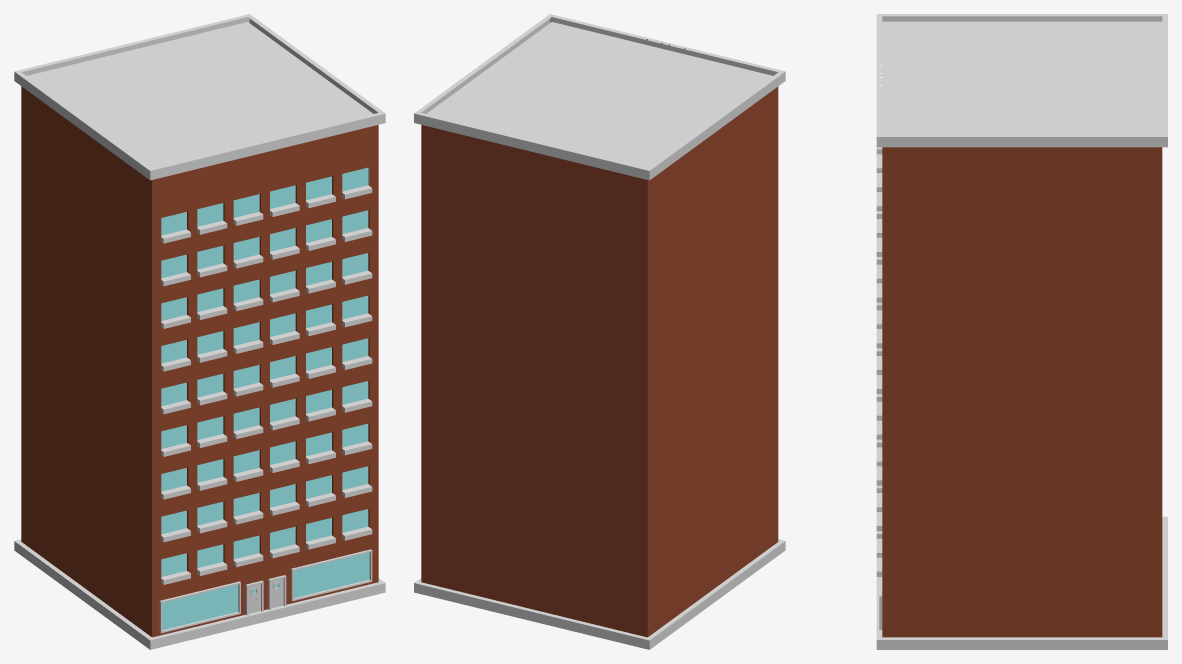
3 renders of one model, left to right at view 1: azimuth 30°, elevation 25°; view 2: azimuth 150°, elevation 25°; view 3: azimuth 270°, elevation 25°, orthographic. The views are drawn at different scales.
Visible parts, largest first — view 1: SketchUp; view 2: SketchUp; view 3: SketchUp.
Part boxes in pixels (left/top/right/bottom): SketchUp: left=14, top=14, right=385, bottom=649; SketchUp: left=414, top=14, right=785, bottom=649; SketchUp: left=876, top=14, right=1167, bottom=649.
Bounding box in the file's own units: 1706 × 3079 × 1752.
